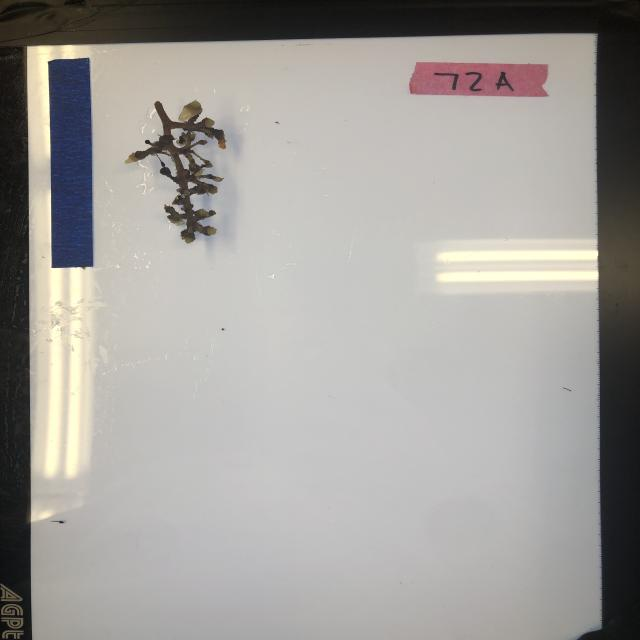index: (408, 62, 550, 96)
measure_label: (48, 58, 95, 268)
rachis_cluster: (120, 99, 232, 243)
